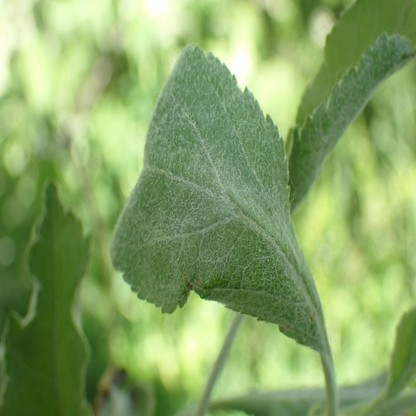powder: (111, 45, 326, 351), (290, 35, 416, 213)
